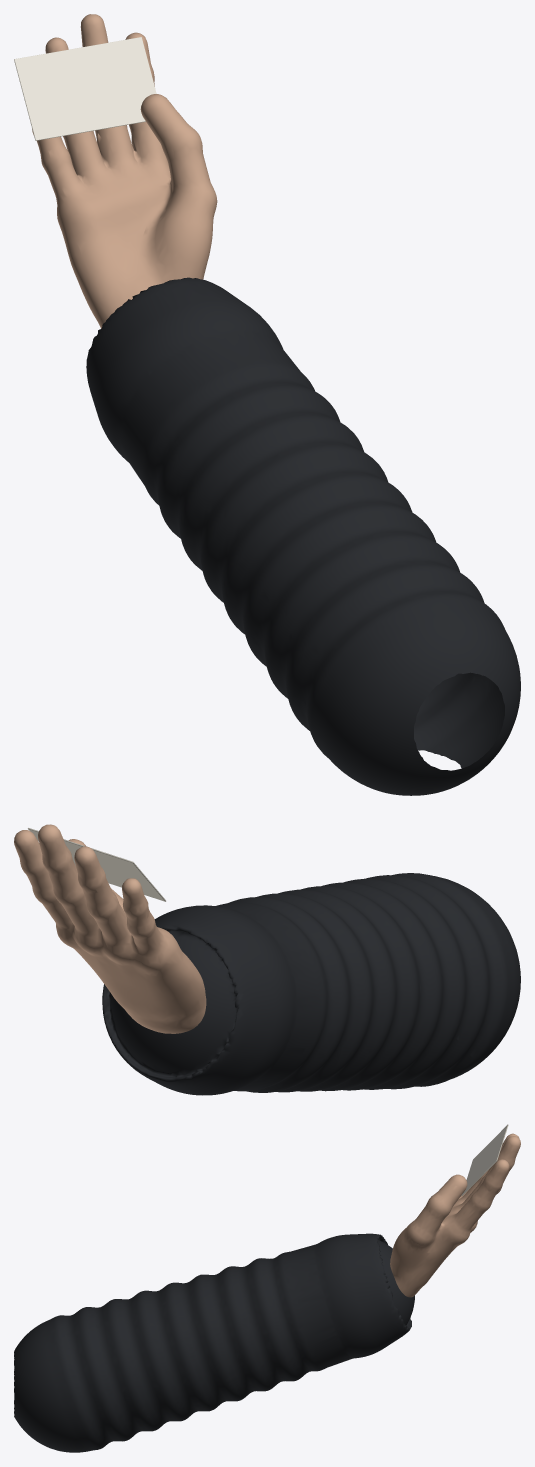
Rendered from his_right_card.glb.
3 views of the same model, one above another, from view 1: azimuth 30°, elevation 25°; view 2: azimuth 150°, elevation 25°; view 3: azimuth 270°, elevation 25° (orthographic). The views are drawn at different scales.
Parts seen in each view (by area): view 1: his_right_card, card; view 2: his_right_card, card_body; view 3: his_right_card, card.
Boxes of the visible parts, x1,y1,x2,y2 form: his_right_card: (32, 14, 520, 795); card: (14, 37, 156, 140); his_right_card: (14, 824, 520, 1095); card_body: (28, 828, 166, 901); his_right_card: (14, 1133, 520, 1452); card: (462, 1124, 507, 1194).
Bounding box in the file's own units: 0.1385 × 0.3406 × 0.5023.
